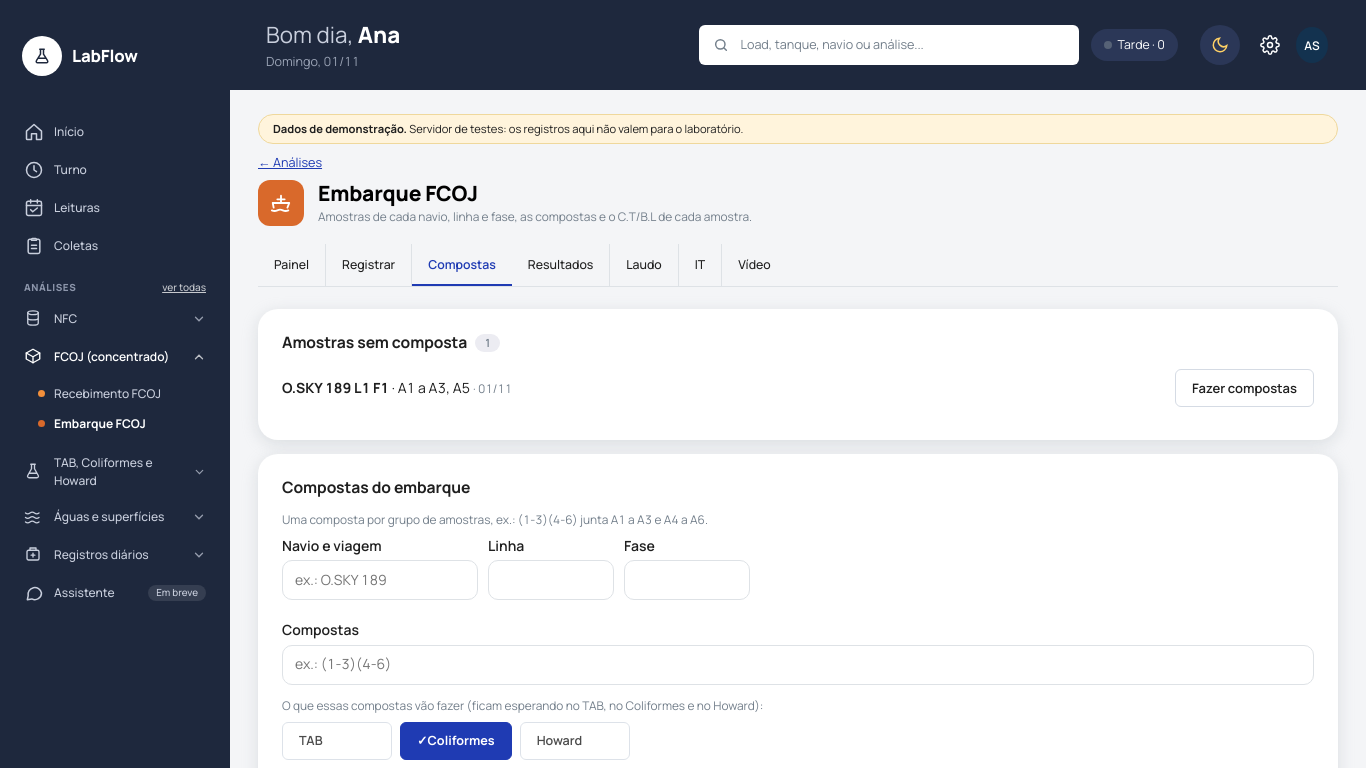
Scenario: apps de análise da Fase E (E3 a E8) › Embarque: as amostras sem composta aparecem e preenchem o formulário (01/11)
Expected: the text "O.SKY 189 L1 F1 · A1 a A3, A5 · 01/11" is shown, [282, 378, 512, 398]
Click the button with aria-label "Fazer as compostas de O.SKY 189 L1 F1": (1245, 388) [1175, 369, 1314, 407]
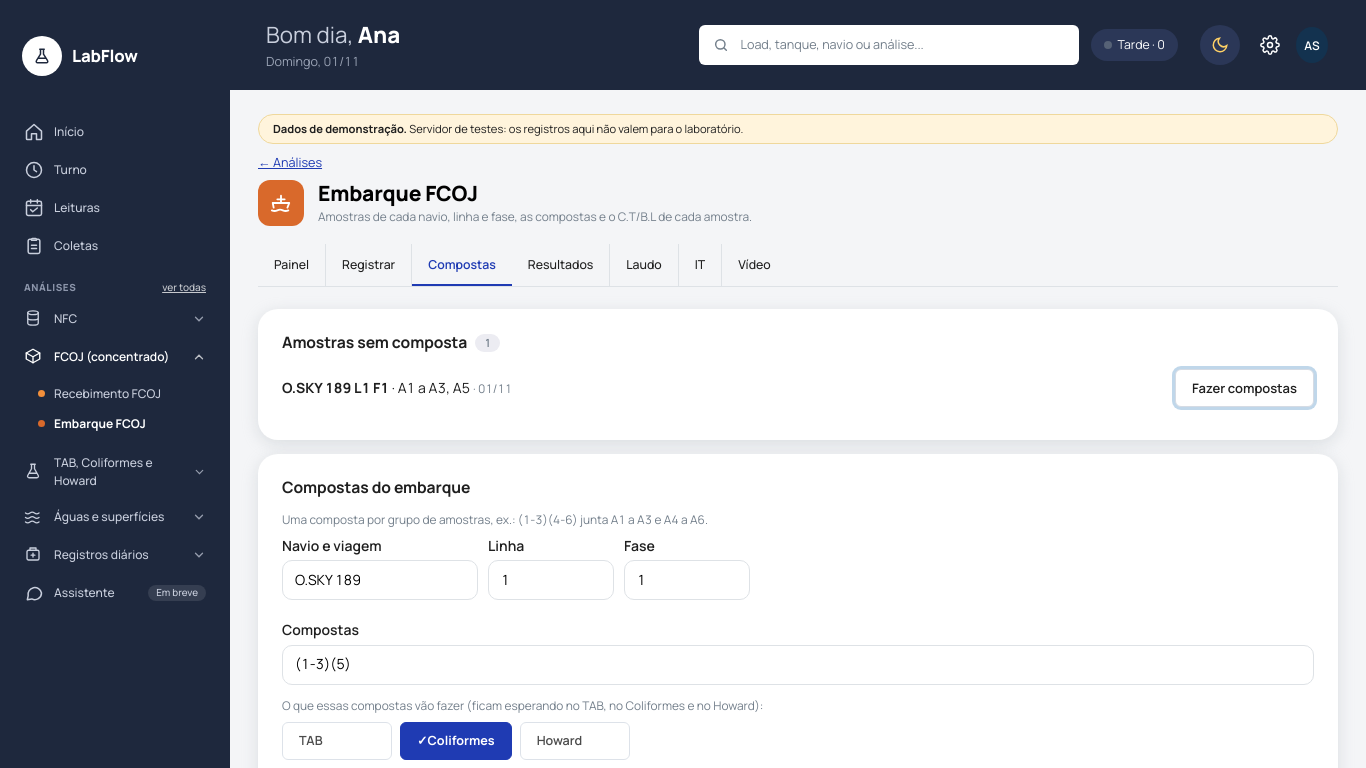
Expected: the field labelled "Linha" holds "1", [488, 560, 614, 600]
Now the field labelled "Navio e viagem" holds "O.SKY 189", box [282, 560, 478, 600]
Now the field labelled "Compostas" holds "(1-3)(5)", box [282, 645, 1314, 685]
